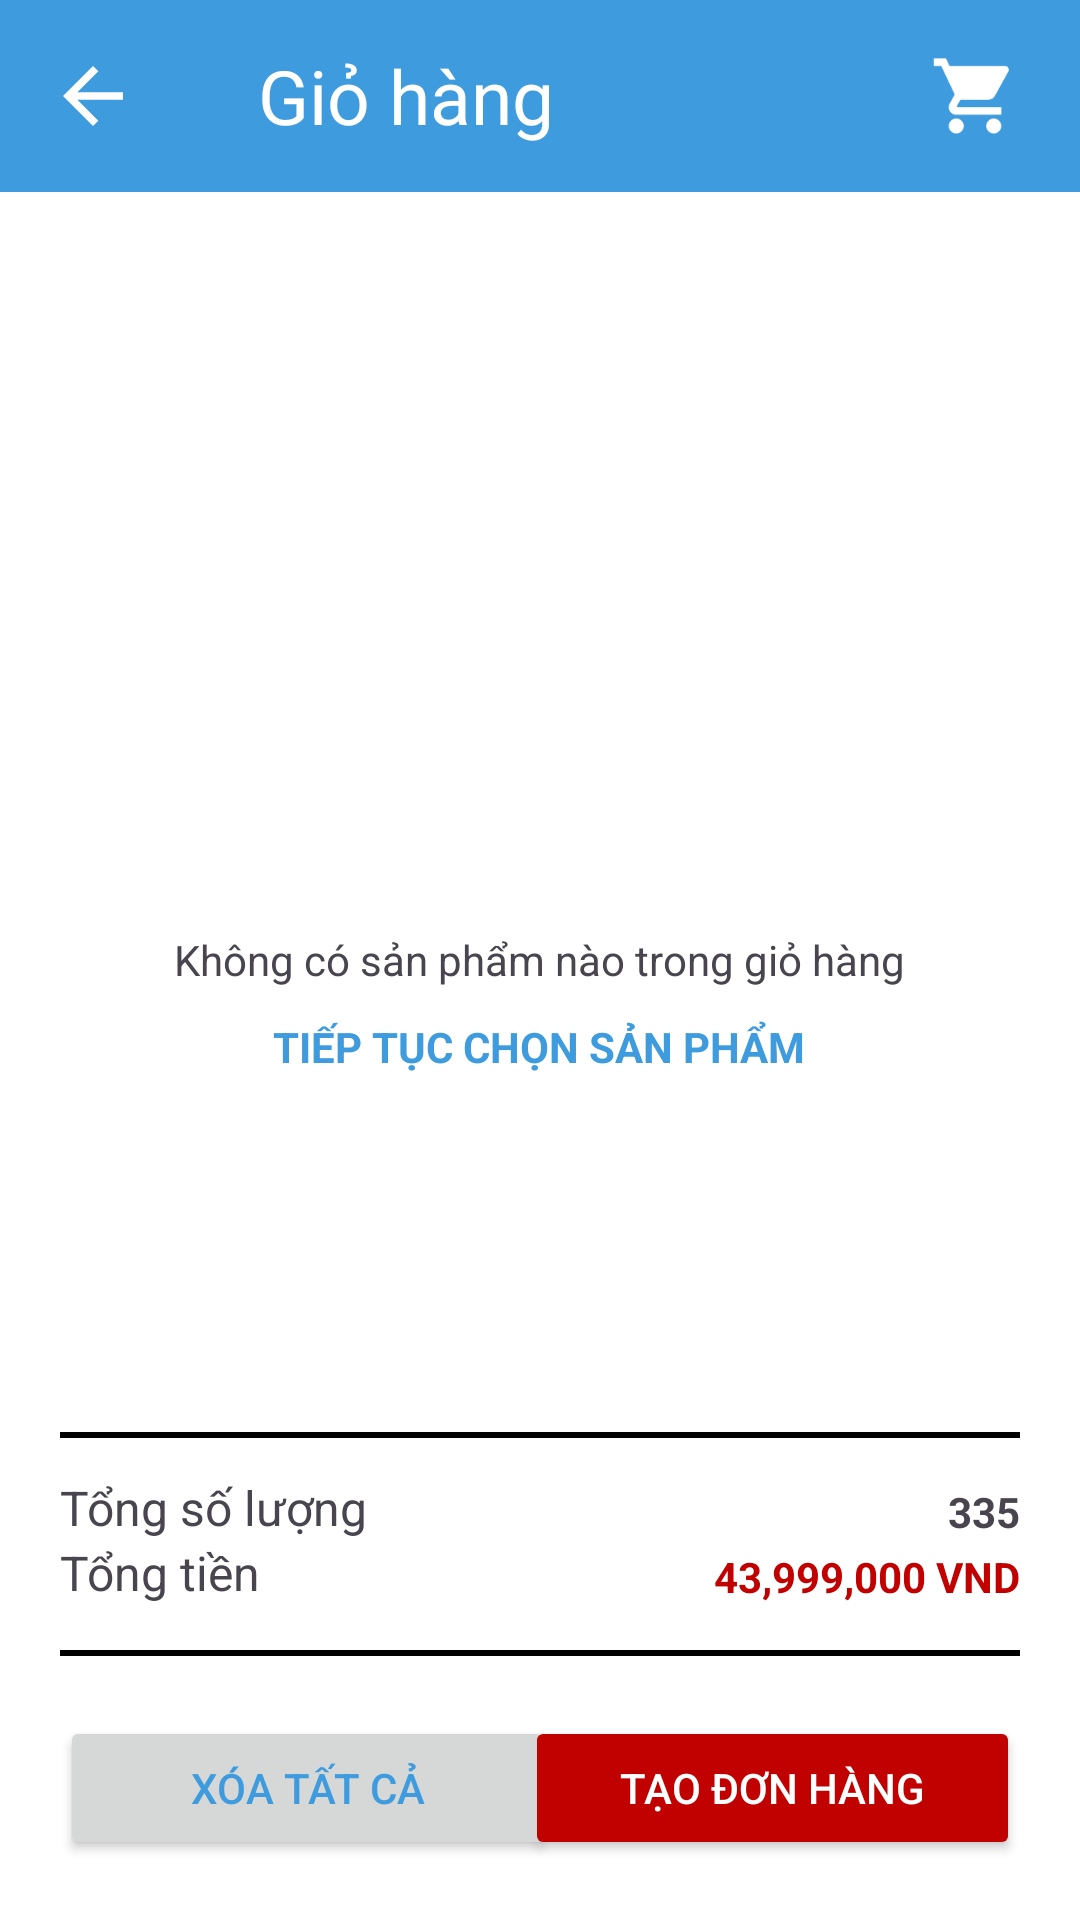

Icons on this 1080x1920 Android screen, each with its box as rect(x1, y1, x2, y2):
back: rect(63, 66, 123, 126)
shopping cart: rect(933, 58, 1009, 134)
